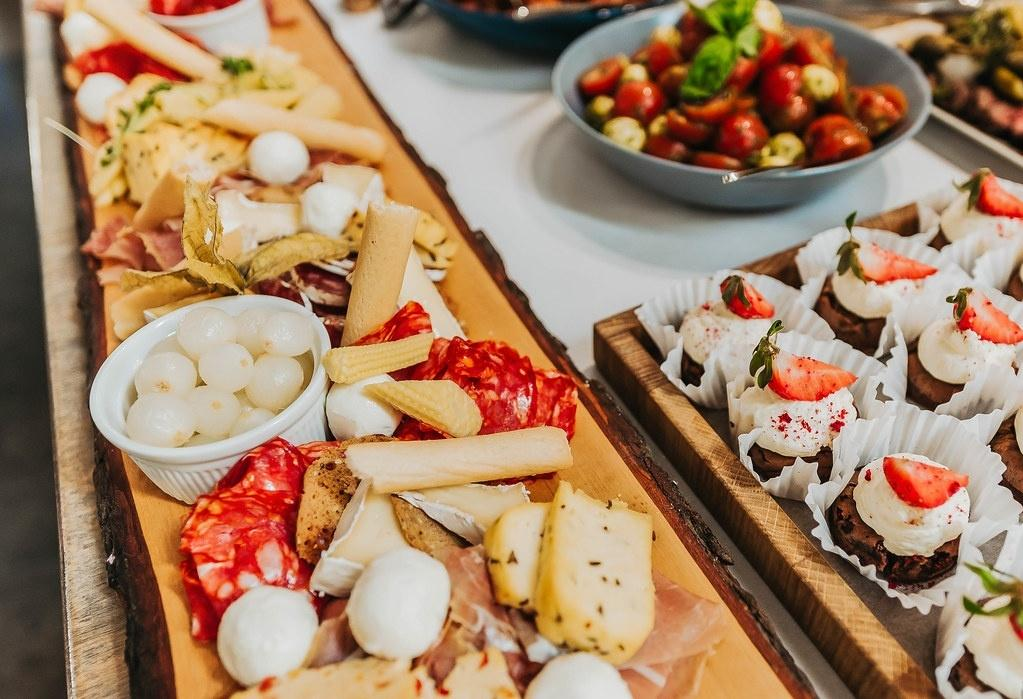Food-Detection: (90, 241, 323, 521)
